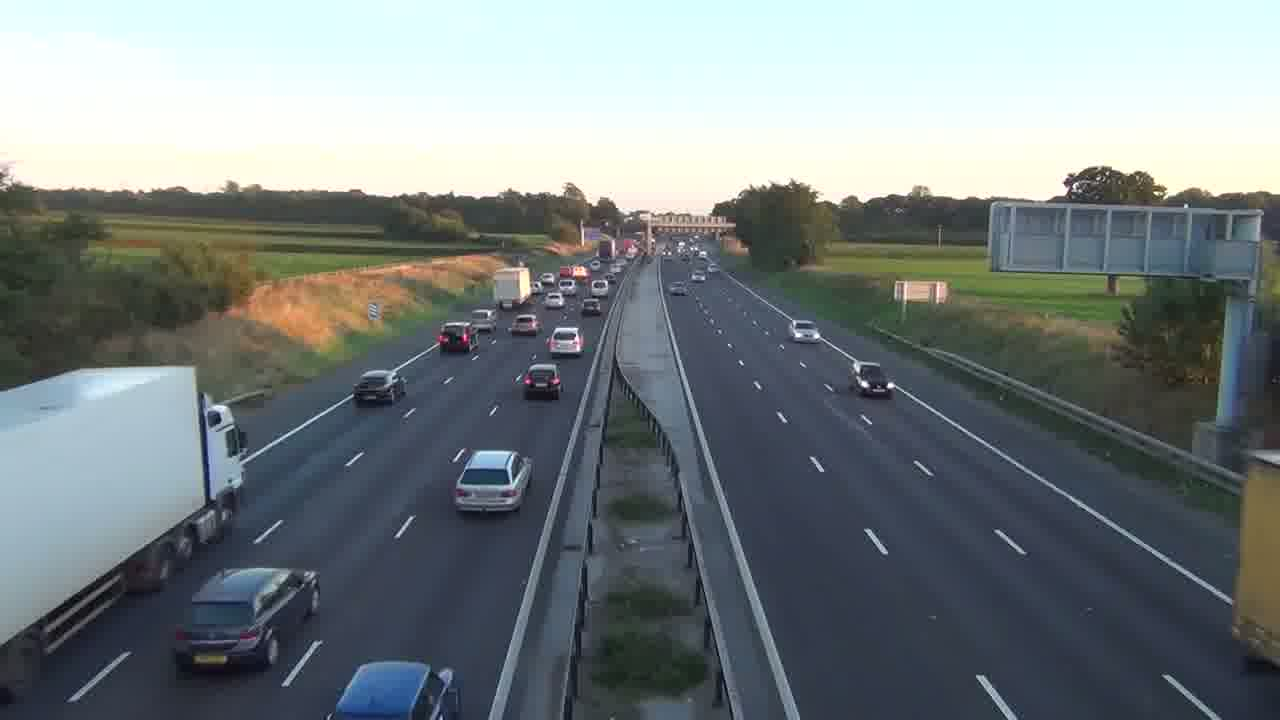car: (325, 659, 463, 718), (453, 449, 533, 515), (352, 368, 407, 406), (516, 363, 562, 401), (849, 360, 892, 399), (510, 313, 540, 336)
truck: (0, 365, 247, 648), (172, 565, 322, 674)
